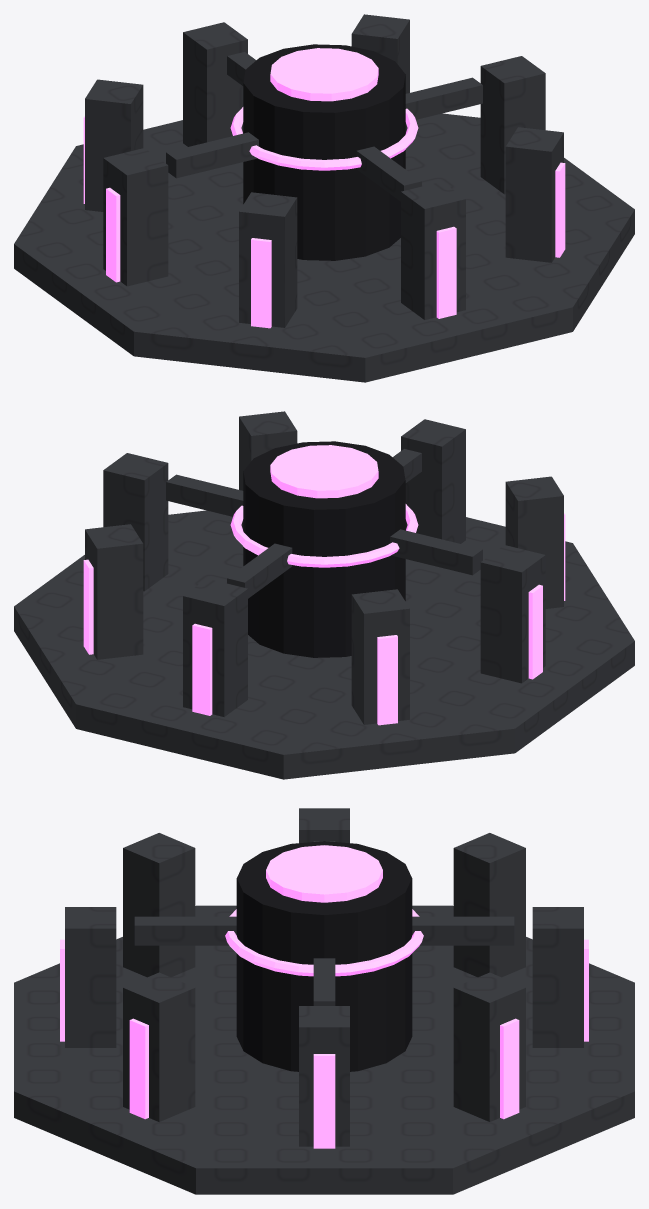
The model's file is Reacteur_Anti_Matiere.glb.
3 renders of one model, top to bottom at view 1: azimuth 30°, elevation 25°; view 2: azimuth 150°, elevation 25°; view 3: azimuth 270°, elevation 25°, orthographic. The views are drawn at different scales.
Visible parts, largest first — view 1: Reacteur_Anti_Matiere; view 2: Reacteur_Anti_Matiere; view 3: Reacteur_Anti_Matiere.
Part boxes in pixels (left/top/right/bottom): Reacteur_Anti_Matiere: left=14, top=14, right=634, bottom=382; Reacteur_Anti_Matiere: left=14, top=411, right=634, bottom=779; Reacteur_Anti_Matiere: left=14, top=808, right=634, bottom=1194.
Bounding box in the file's own units: 8.5 × 2.92 × 8.5.
3 materials, 1 textured.
